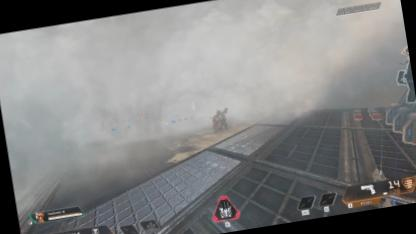Target: (207, 105, 232, 135)
